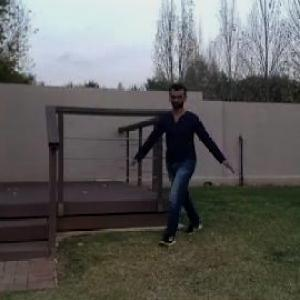land: (126, 73, 238, 264)
